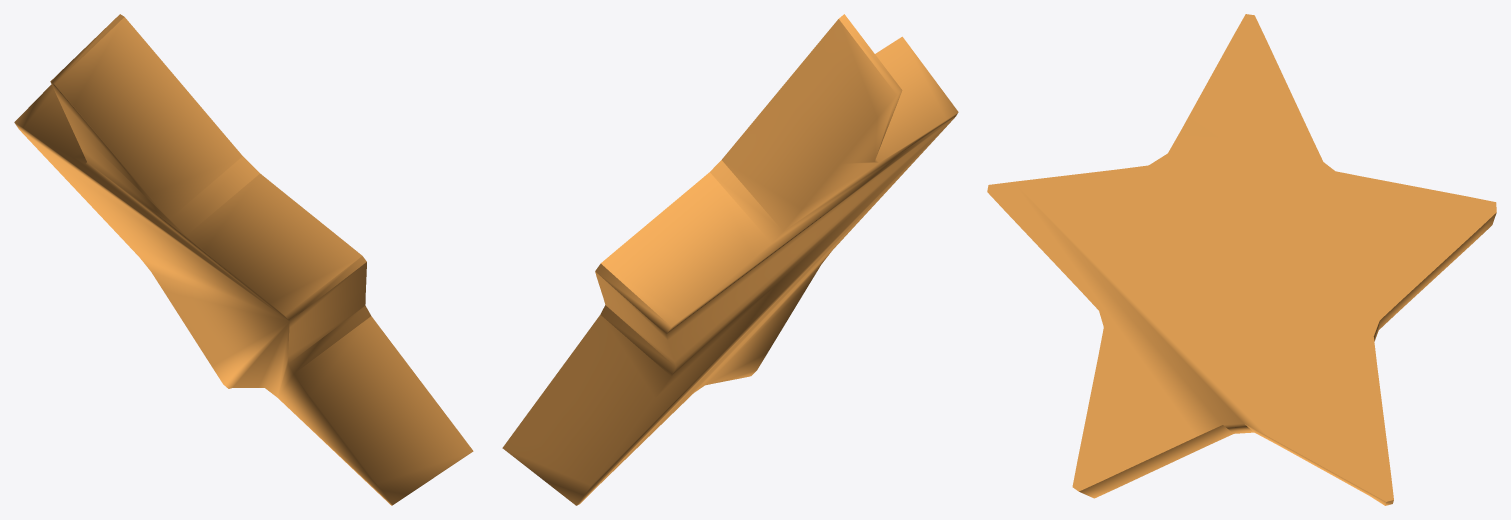
Rendered from Carambola Potion.fbx.
3 views of the same model, side by side, from view 1: azimuth 30°, elevation 25°; view 2: azimuth 150°, elevation 25°; view 3: azimuth 270°, elevation 25° (orthographic). The views are drawn at different scales.
Visible parts, largest first — view 1: Cylinder.004; view 2: Cylinder.004; view 3: Cylinder.004.
Part boxes in pixels (x1,y1,x2,y2): Cylinder.004: (14,14,473,505); Cylinder.004: (502,14,958,505); Cylinder.004: (987,14,1496,505).
Bounding box in the file's own units: 12.92 × 18.29 × 20.41.
